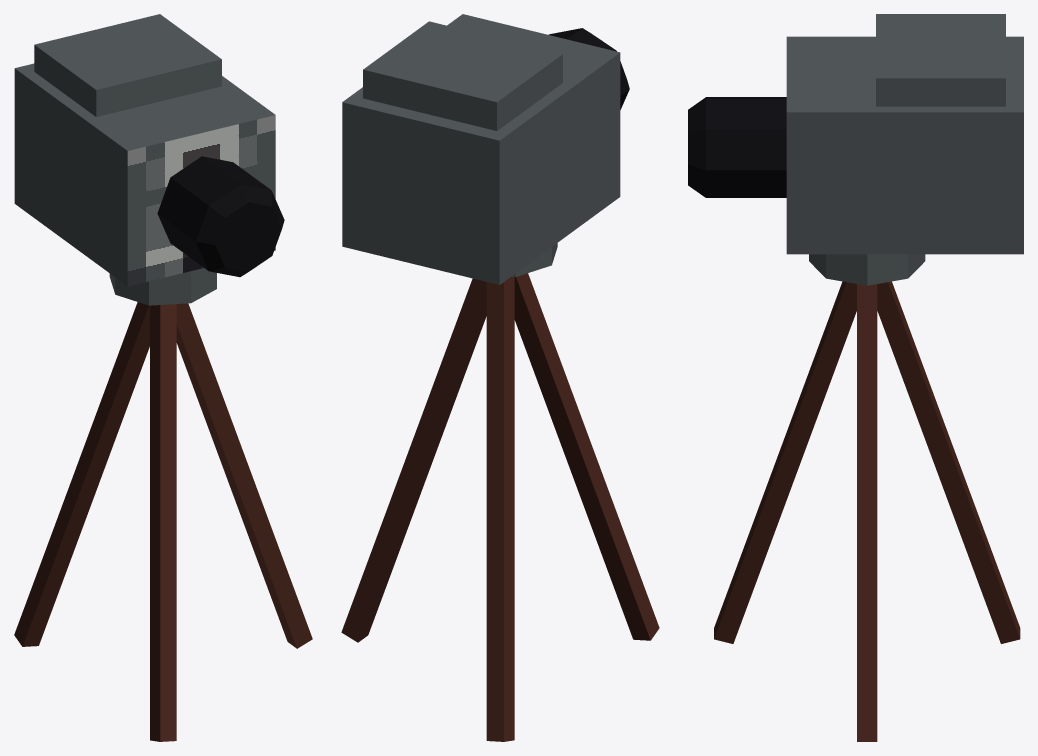
File: broadcast_camera.glb
The picture shows the model from 3 angles, left to right: view 1: azimuth 30°, elevation 25°; view 2: azimuth 150°, elevation 25°; view 3: azimuth 270°, elevation 25°; orthographic projection. The views are drawn at different scales.
Parts seen in each view (by area): view 1: Camera_Head, Tripod; view 2: Camera_Head, Tripod; view 3: Camera_Head, Tripod.
Boxes of the visible parts, x1=… form: Camera_Head: x1=14, y1=14, x2=284, y2=286; Tripod: x1=14, y1=268, x2=312, y2=741; Camera_Head: x1=342, y1=14, x2=629, y2=284; Tripod: x1=341, y1=243, x2=659, y2=741; Camera_Head: x1=688, y1=14, x2=1023, y2=254; Tripod: x1=714, y1=254, x2=1020, y2=741.
Bounding box in the file's own units: 0.5995 × 1.55 × 0.75.
Materials: 2 (2 with a texture image).
